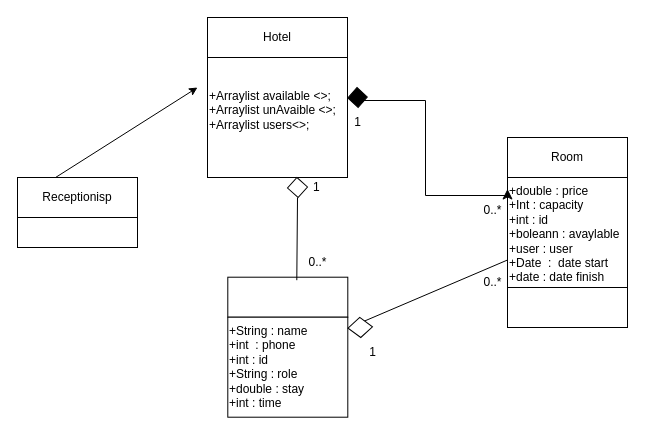
Image size: 645x435. Some labels were removed from this diagram. The shapes that lost their labels are listed below. From the top down, each one's box as (x1, y1, x2, y2) in pixels, then its label:
(16, 216, 138, 248): +make user();
(227, 276, 348, 317): User
(506, 286, 628, 328): +allocateRoom();
